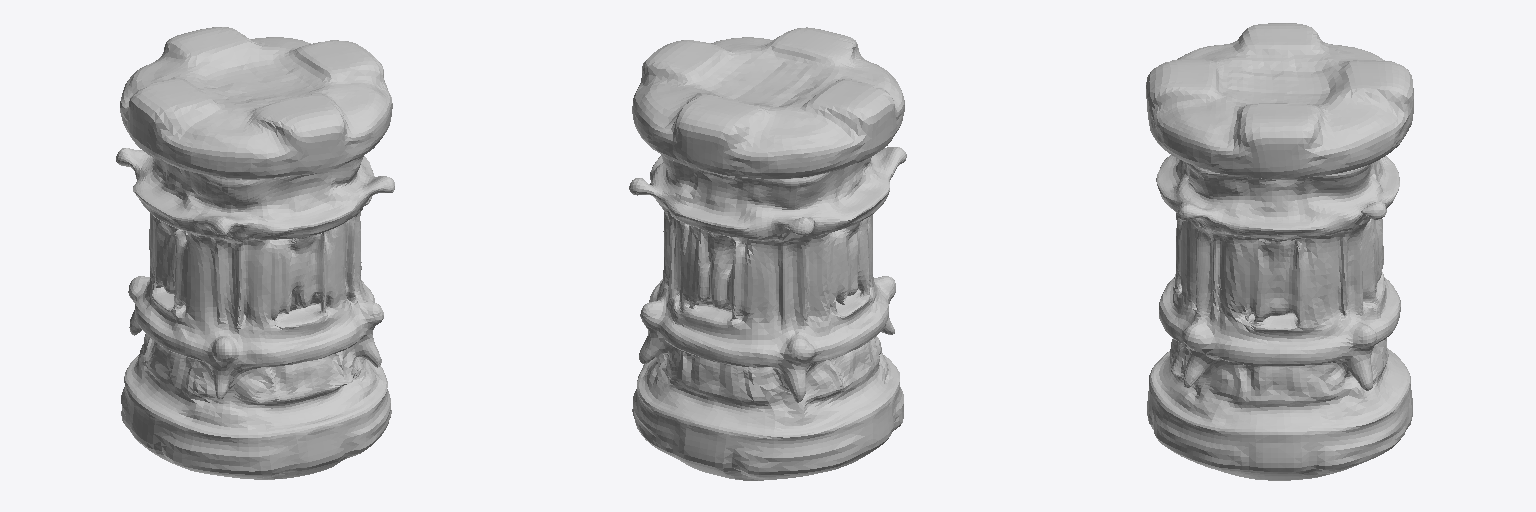
File: a707b94c8588_a_large_sci_fi_gree.obj
The picture shows the model from 3 angles: view 1: azimuth 30°, elevation 25°; view 2: azimuth 150°, elevation 25°; view 3: azimuth 270°, elevation 25°; orthographic projection.
Parts seen in each view (by area): view 1: mesh; view 2: mesh; view 3: mesh.
Part boxes in pixels (left/top/right/bottom): mesh: left=116, top=27, right=394, bottom=479; mesh: left=629, top=27, right=906, bottom=480; mesh: left=1146, top=23, right=1413, bottom=480.
Size of the model in its own units: 0.6625 by 0.9992 by 0.6623.